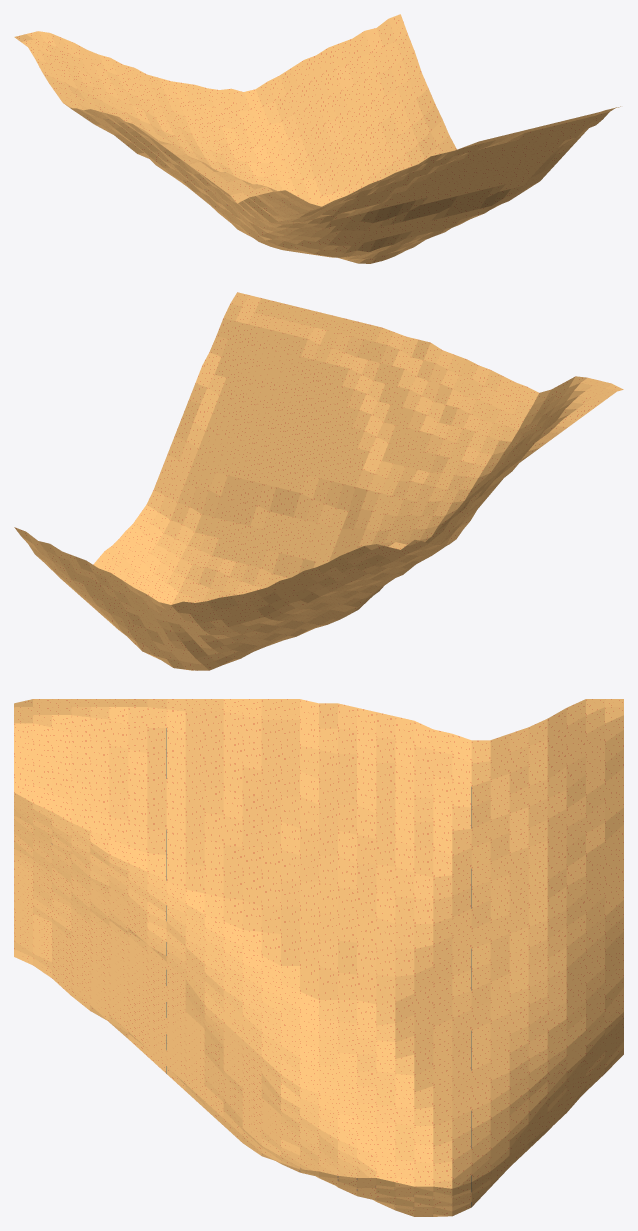
File: map_chunked_037.gltf
3 renders of one model, top to bottom at view 1: azimuth 30°, elevation 25°; view 2: azimuth 150°, elevation 25°; view 3: azimuth 270°, elevation 25°, orthographic. The views are drawn at different scales.
Parts seen in each view (by area): view 1: map_chunked.037; view 2: map_chunked.037; view 3: map_chunked.037.
Part boxes in pixels (bbox=[...]): map_chunked.037: bbox=[14, 14, 620, 263]; map_chunked.037: bbox=[14, 292, 623, 670]; map_chunked.037: bbox=[14, 699, 623, 1216].
Size of the model in its own units: 32 by 18.95 by 32.
Materials: 1 (1 with a texture image).
